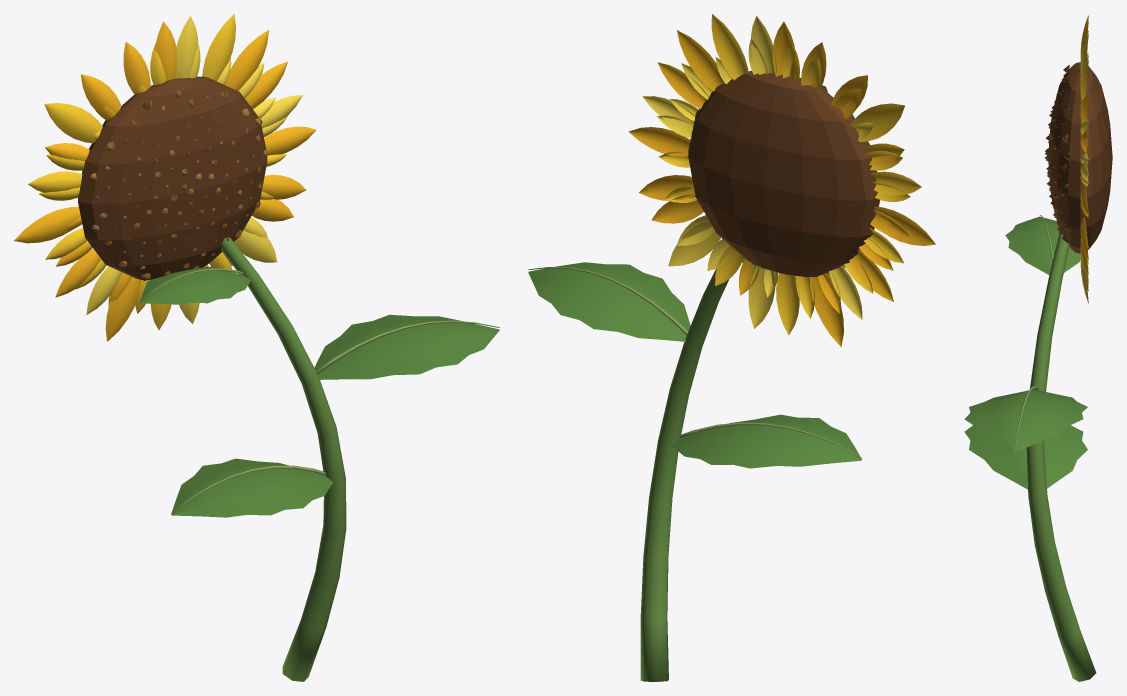
File: sunflower-test-bloom-1-2.glb
The picture shows the model from 3 angles, left to right: view 1: azimuth 30°, elevation 25°; view 2: azimuth 150°, elevation 25°; view 3: azimuth 270°, elevation 25°; orthographic projection. The views are drawn at different scales.
Parts seen in each view (by area): view 1: Curved tapered stem; view 2: Curved tapered stem; view 3: Curved tapered stem.
Boxes of the visible parts, x1,y1,x2,y2 form: Curved tapered stem: [14, 14, 499, 681]; Curved tapered stem: [528, 14, 935, 681]; Curved tapered stem: [964, 15, 1112, 681].
Size of the model in its own units: 0.3195 by 0.4726 by 0.1056.
